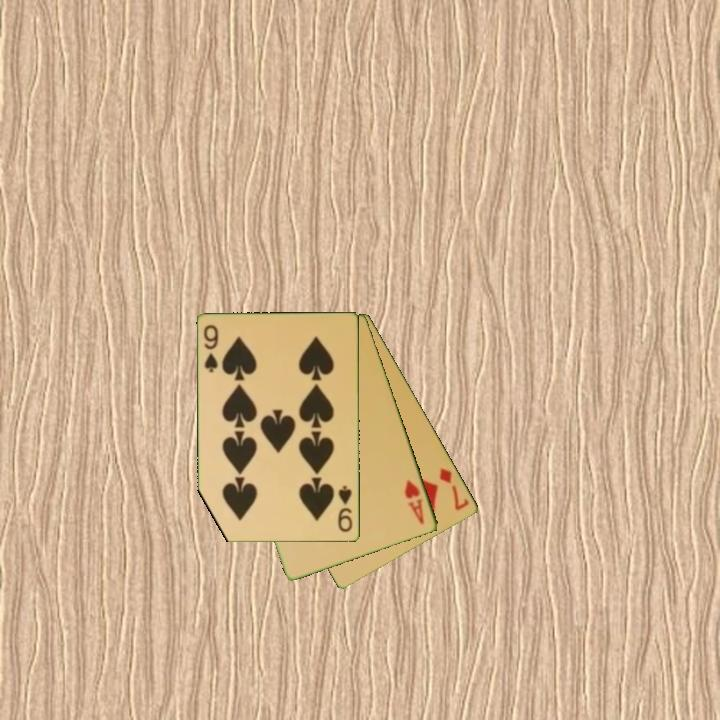7d: (436, 465, 473, 513)
9s: (200, 322, 221, 376), (335, 483, 356, 535)
Ah: (401, 476, 427, 527)
